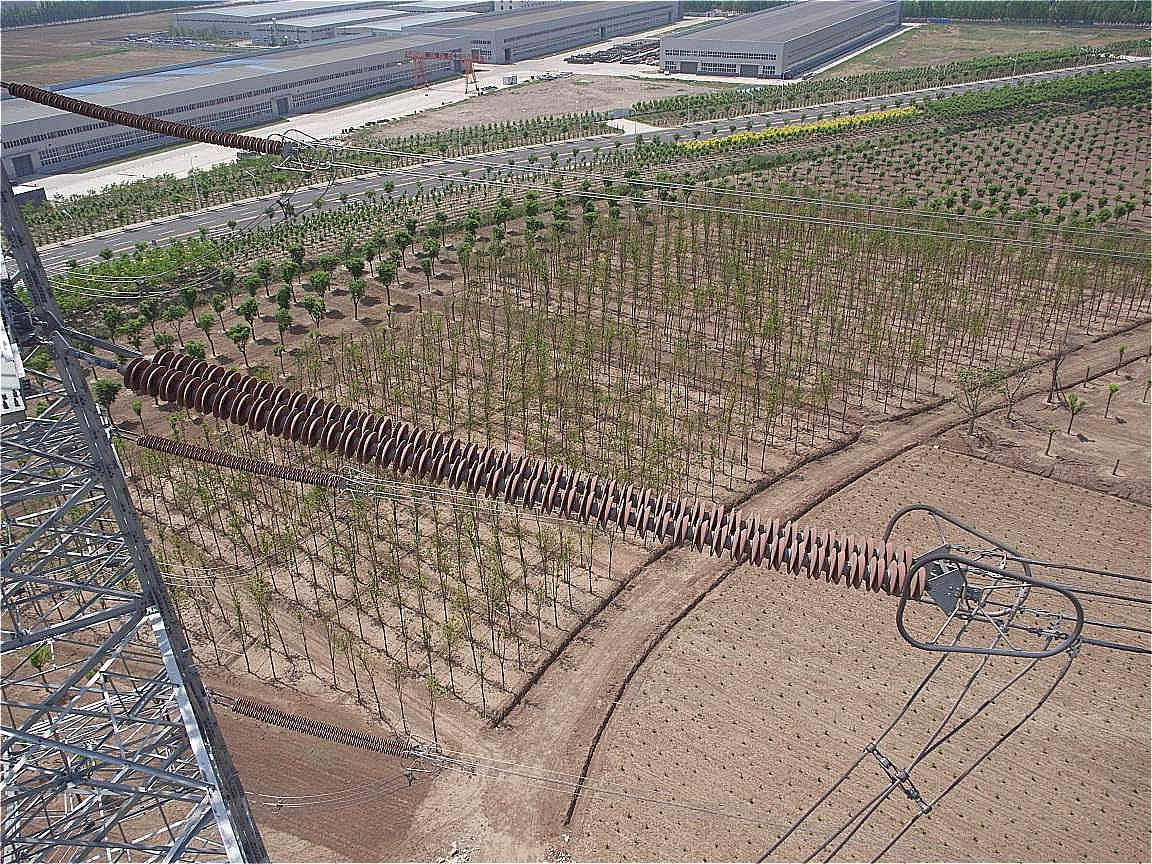insultor2: (125, 348, 926, 601), (11, 81, 285, 153), (138, 431, 342, 489), (233, 695, 413, 759)
